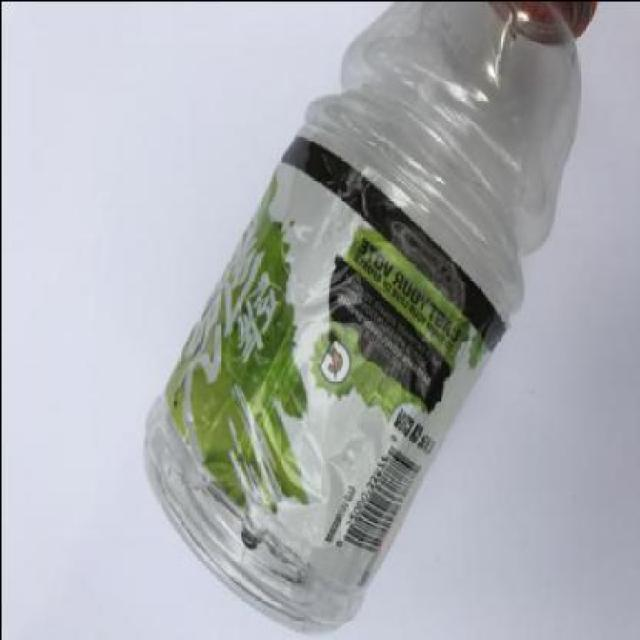PLASTIC: (142, 1, 596, 638), (162, 133, 504, 590), (486, 2, 592, 43)
